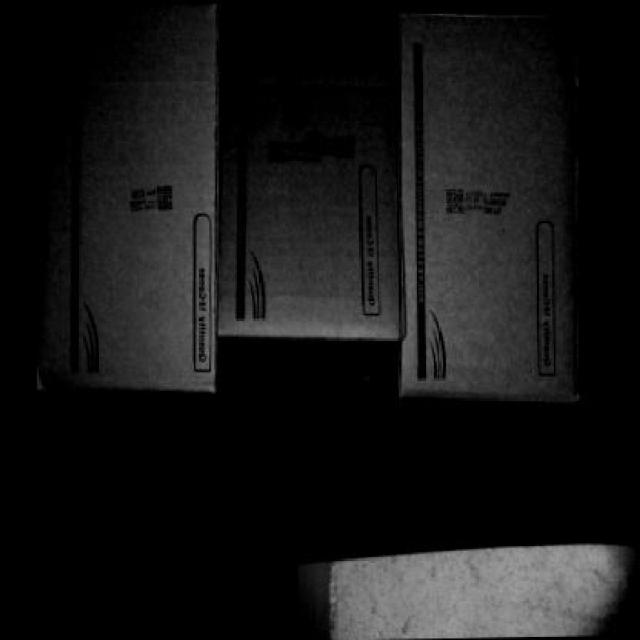cardboxes: (24, 13, 216, 393), (394, 12, 578, 396), (210, 1, 392, 342)
